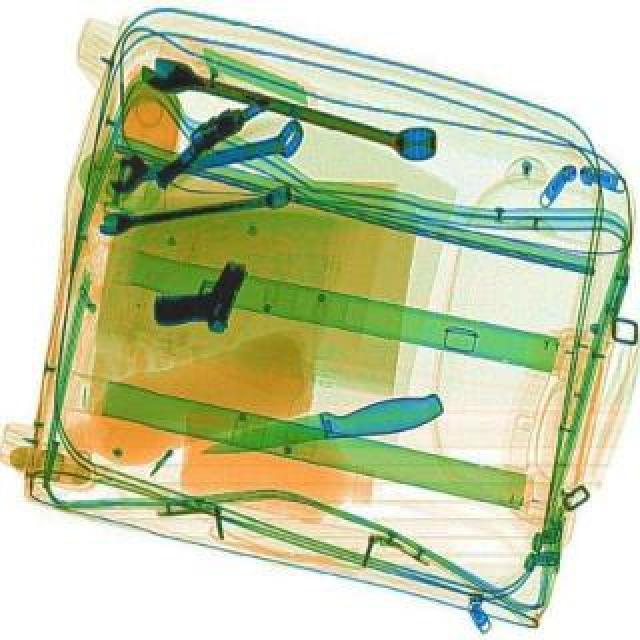gun: (144, 80, 268, 194), (146, 240, 250, 340)
knife: (198, 382, 446, 470)
scissors: (134, 50, 442, 166), (104, 116, 308, 194), (96, 182, 294, 234)
